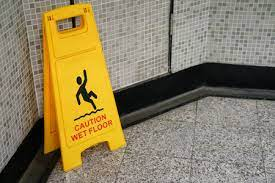wet caution sign: (37, 5, 138, 161)
